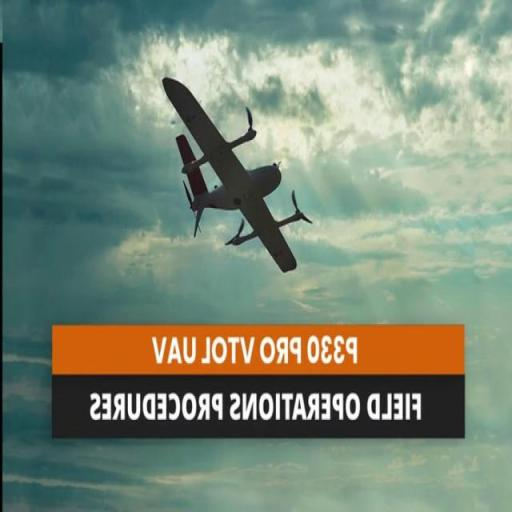uav: (150, 66, 344, 286)
